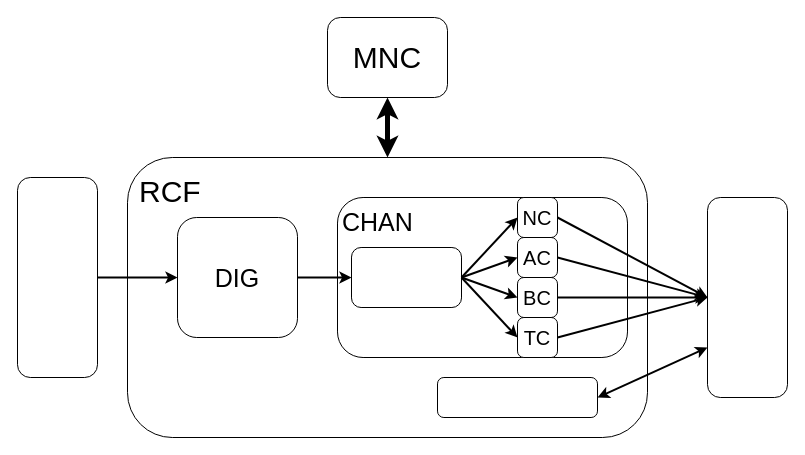
The diagram is 805 pixels wide and 455 high, and some of its shapes have lost their labels. The shapes that lost their labels are listed below. From the top down, each one's centre as x and y in pixels, then its label:
At (57,277): "ASP".
At (406,277): "COMMON".
At (747,297): "SNW".
At (517,397): "BEAMFORM".
